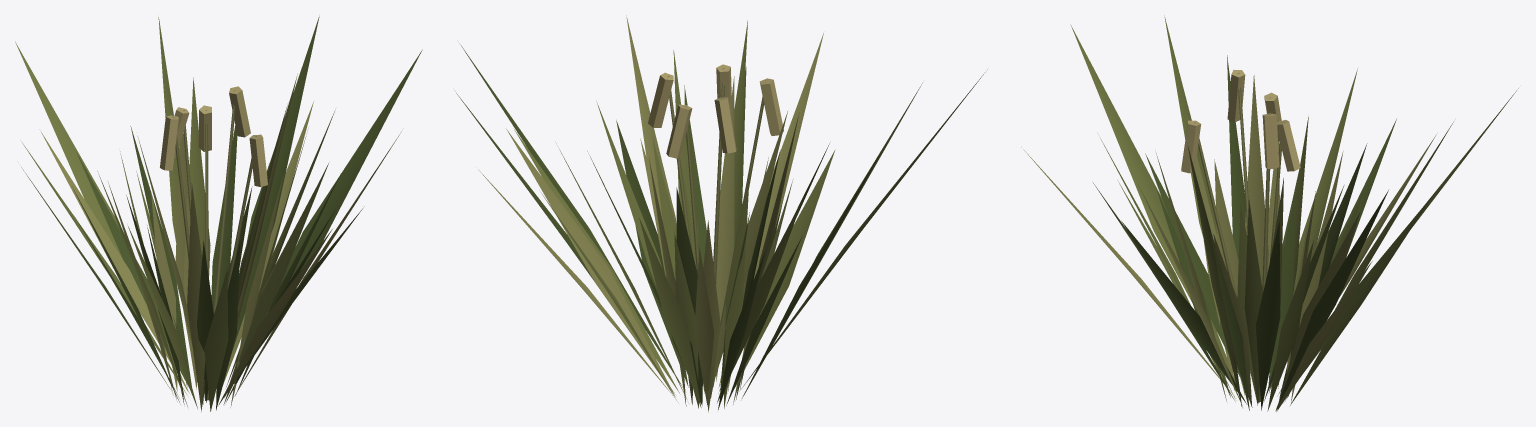
The model's file is meadow_grass.glb.
3 views of the same model, side by side, from view 1: azimuth 30°, elevation 25°; view 2: azimuth 150°, elevation 25°; view 3: azimuth 270°, elevation 25° (orthographic). The views are drawn at different scales.
Parts seen in each view (by area): view 1: meadow_grass; view 2: meadow_grass; view 3: meadow_grass.
Boxes of the visible parts, left/top/right/bottom form: meadow_grass: left=15, top=16, right=422, bottom=411; meadow_grass: left=454, top=15, right=987, bottom=412; meadow_grass: left=1021, top=15, right=1518, bottom=411.
Size of what is drawn, in the model's own units: 1.03 by 0.75 by 1.1.
